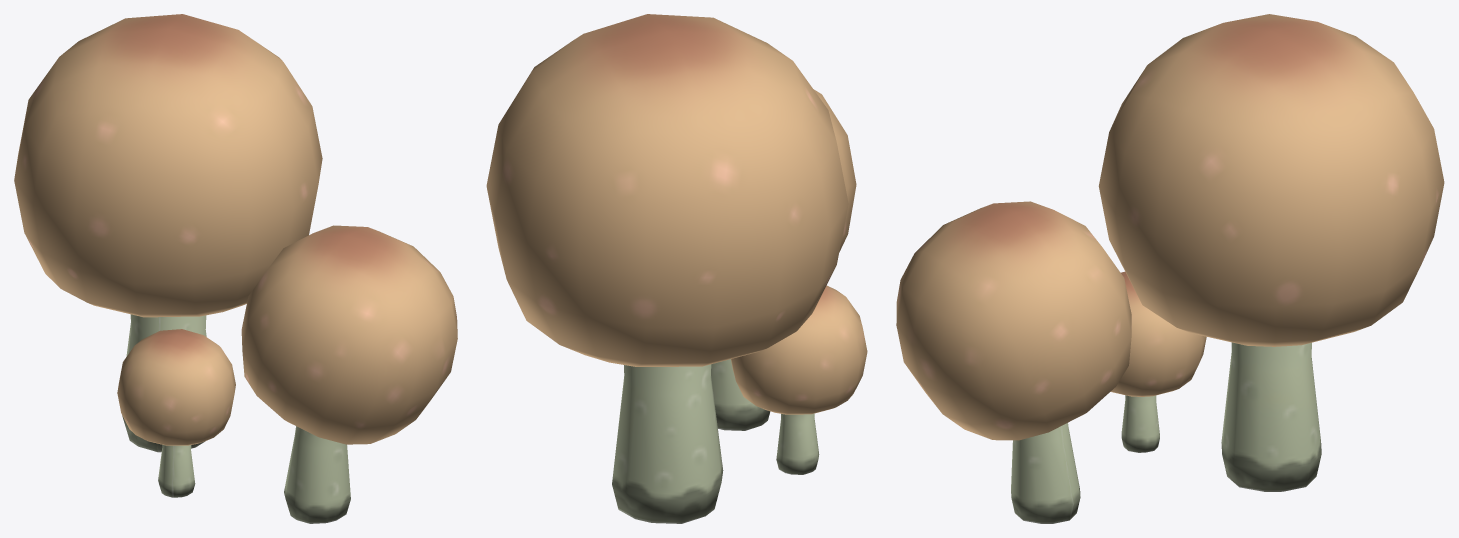
The model's file is mushroom5.glb.
3 renders of one model, left to right at view 1: azimuth 30°, elevation 25°; view 2: azimuth 150°, elevation 25°; view 3: azimuth 270°, elevation 25°, orthographic. The views are drawn at different scales.
Parts seen in each view (by area): view 1: Object_6; view 2: Object_6; view 3: Object_6.
Boxes of the visible parts, x1,y1,x2,y2 form: Object_6: [14, 14, 457, 523]; Object_6: [486, 14, 867, 523]; Object_6: [896, 14, 1444, 523].
Size of the model in its own units: 0.4798 by 0.6526 by 0.7125.
Materials: 1 (1 with a texture image).
